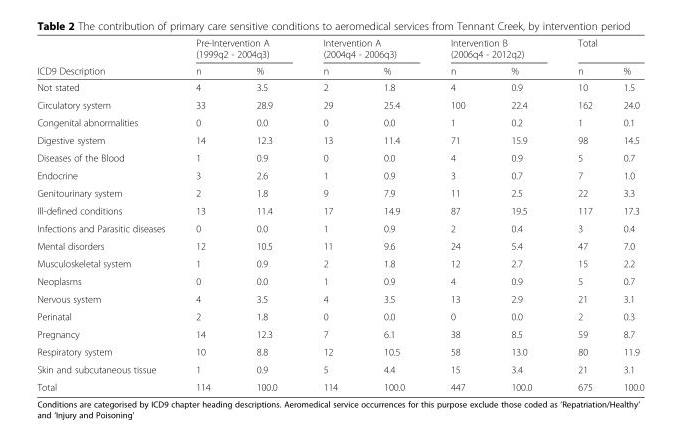table: (36, 36, 643, 392)
table column: (36, 36, 179, 392), (232, 36, 299, 392), (360, 36, 427, 392), (487, 36, 554, 392), (299, 36, 360, 392), (427, 36, 487, 392), (179, 36, 232, 392), (554, 36, 607, 392), (607, 36, 643, 392)
table column header: (36, 36, 643, 78)
table row: (36, 36, 643, 62), (36, 95, 643, 113), (36, 113, 643, 131), (36, 148, 643, 166), (36, 183, 643, 201), (36, 201, 643, 219), (36, 236, 643, 254), (36, 254, 643, 272), (36, 289, 643, 307), (36, 307, 643, 325), (36, 342, 643, 360), (36, 78, 643, 95), (36, 131, 643, 148), (36, 166, 643, 183), (36, 219, 643, 236), (36, 272, 643, 289), (36, 325, 643, 342), (36, 360, 643, 377), (36, 62, 643, 78), (36, 377, 643, 392)
table spanning cell: (36, 36, 179, 78), (299, 36, 427, 62), (427, 36, 554, 62), (179, 36, 299, 62), (554, 36, 643, 62)
